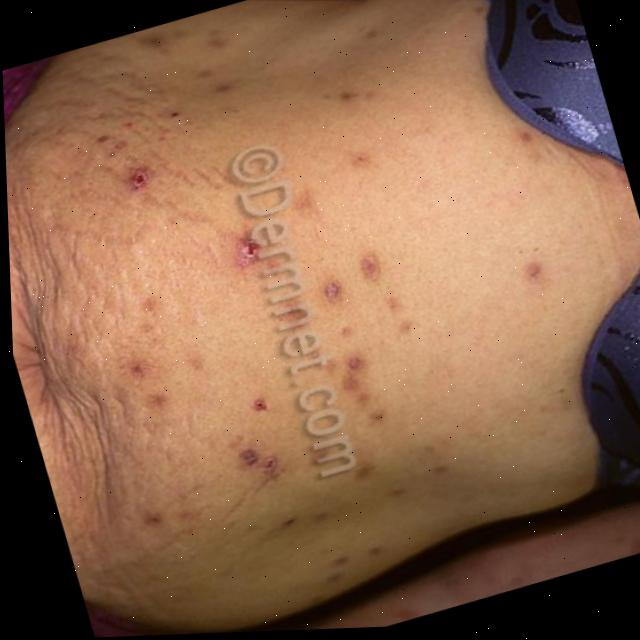Eczema: (85, 87, 488, 596)
